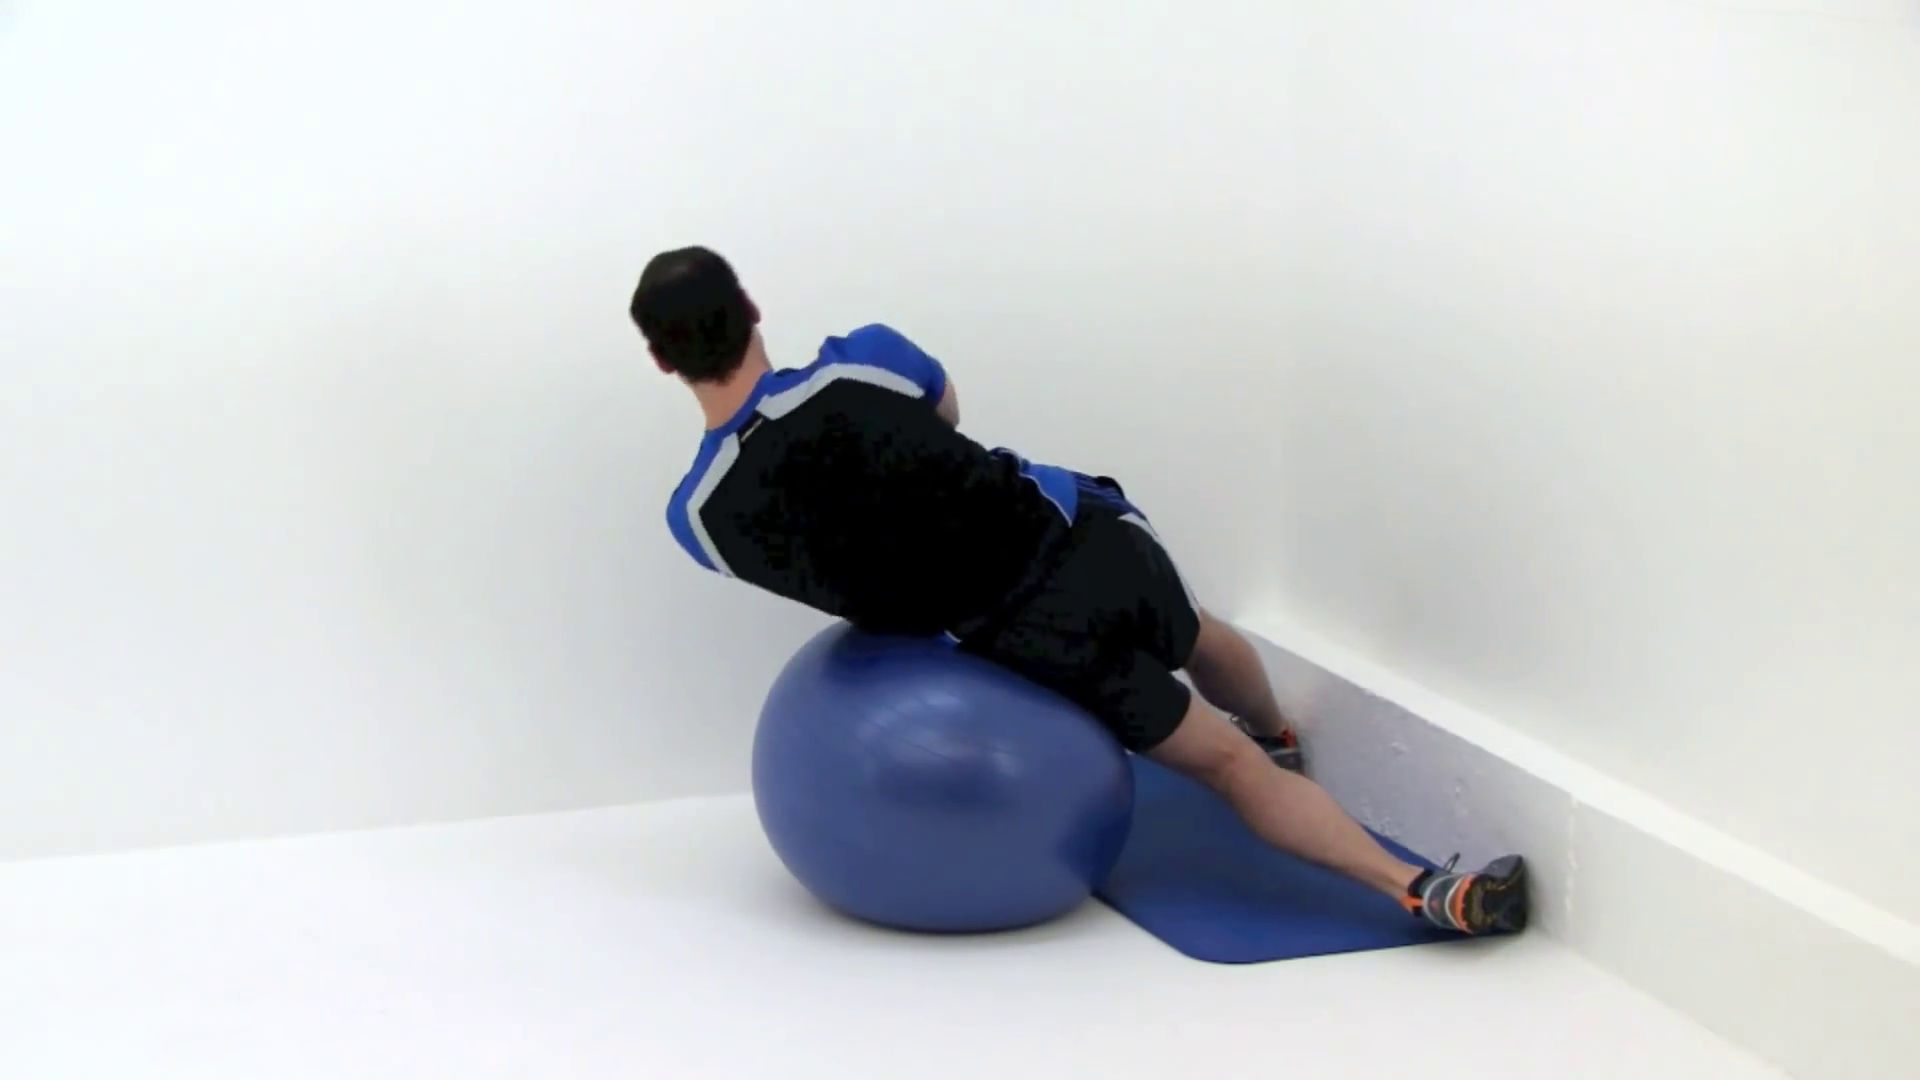yogaball: (738, 605, 1156, 951)
